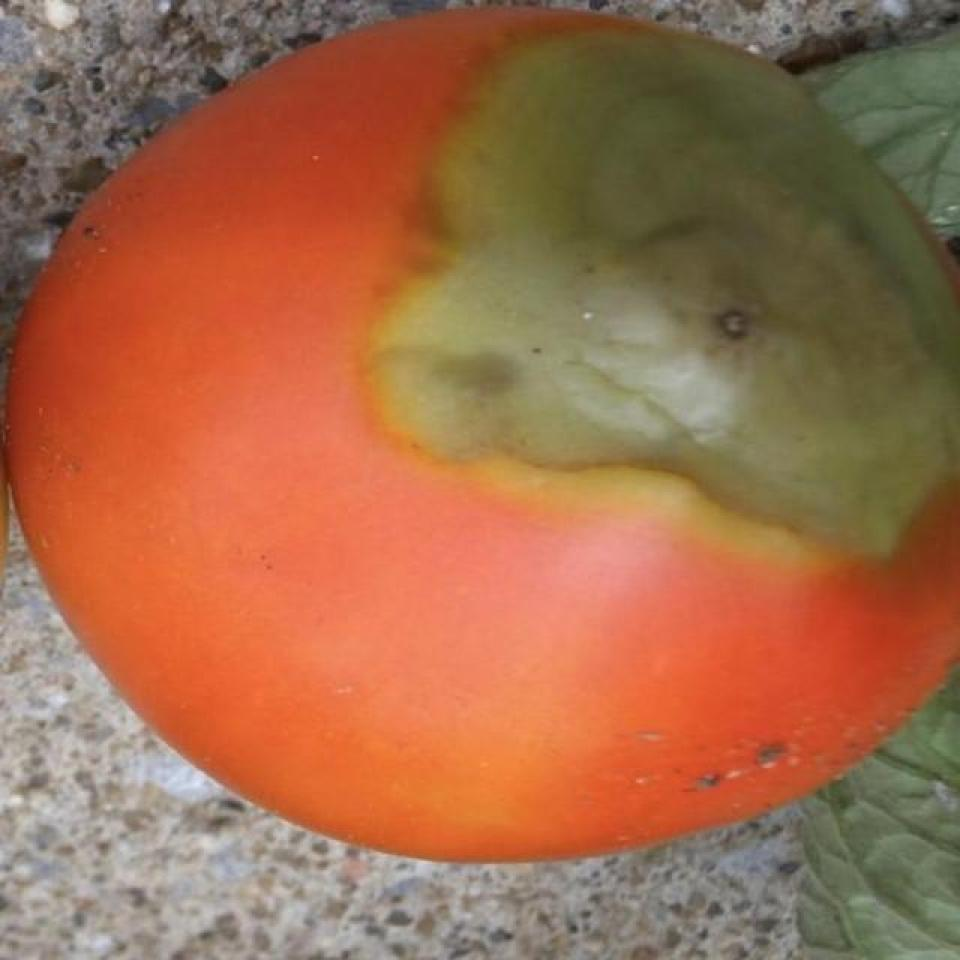Sunscald: (356, 27, 960, 569)
